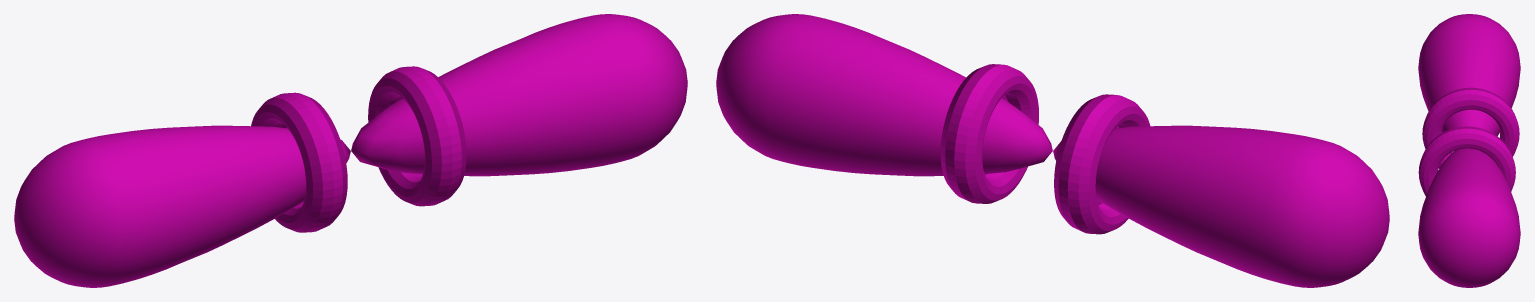
3 renders of one model, left to right at view 1: azimuth 30°, elevation 25°; view 2: azimuth 150°, elevation 25°; view 3: azimuth 270°, elevation 25°, orthographic. The views are drawn at different scales.
Visible parts, largest first — view 1: 4fx.001, Torus.006, Torus.004; view 2: 4fx.001, Torus.006, Torus.004; view 3: 4fx.001, Torus.004, Torus.006.
Boxes of the visible parts, x1,y1,x2,y2 form: 4fx.001: [14, 14, 687, 287]; Torus.006: [368, 66, 466, 206]; Torus.004: [251, 92, 347, 232]; 4fx.001: [716, 14, 1389, 287]; Torus.006: [940, 64, 1038, 203]; Torus.004: [1054, 94, 1150, 234]; 4fx.001: [1418, 14, 1520, 287]; Torus.004: [1422, 87, 1519, 168]; Torus.006: [1418, 126, 1515, 196].
Bounding box in the file's own units: 273 × 54 × 54.
